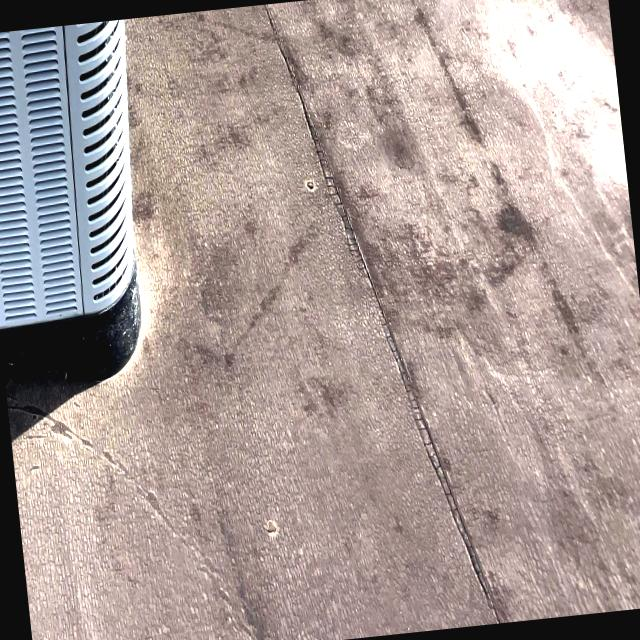SPLIT-SYSTEM: (0, 18, 166, 383)
